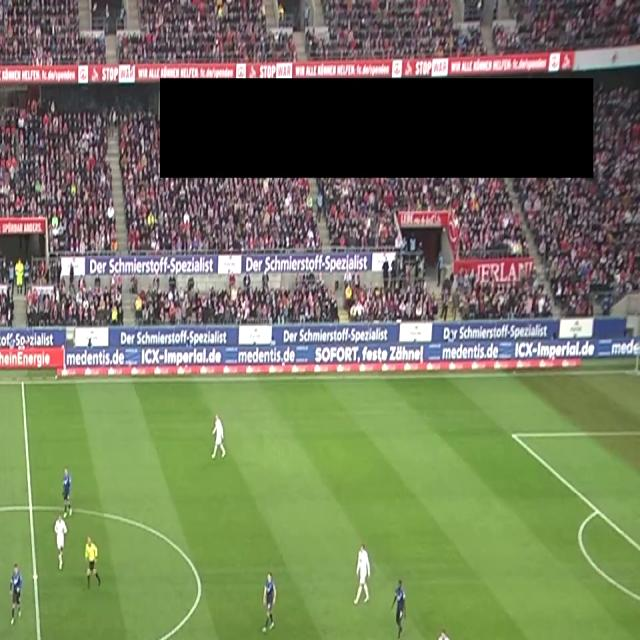referee: (79, 533, 105, 594)
soccer-player: (348, 539, 378, 609), (258, 565, 286, 637), (1, 561, 29, 631), (389, 573, 413, 640), (206, 410, 232, 466), (52, 510, 74, 570), (58, 465, 76, 520), (429, 623, 455, 640)
